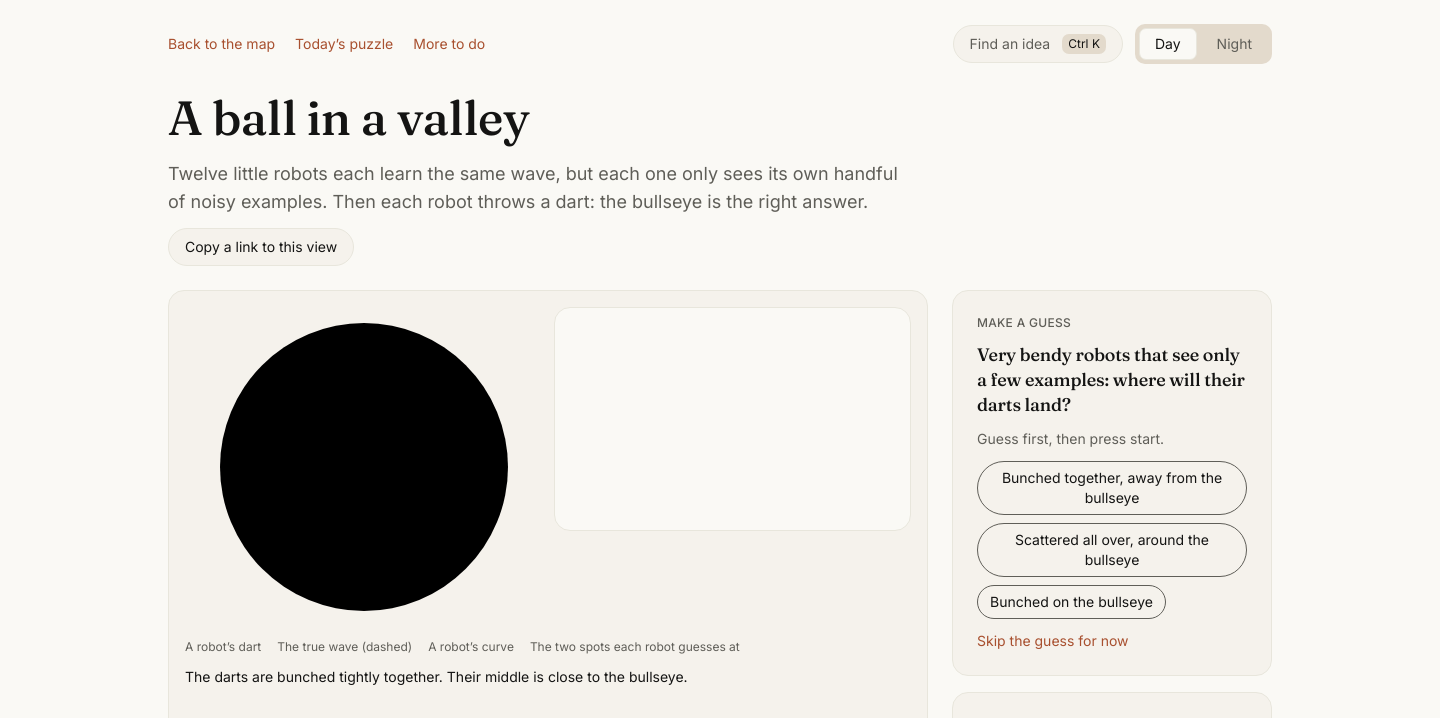
Test: stubborn vs jumpy: in the lesson › earns the star once the darts scatter everywhere
Click the button "Skip the guess for now": (1053, 641) x1=977 y1=631 x2=1128 y2=651
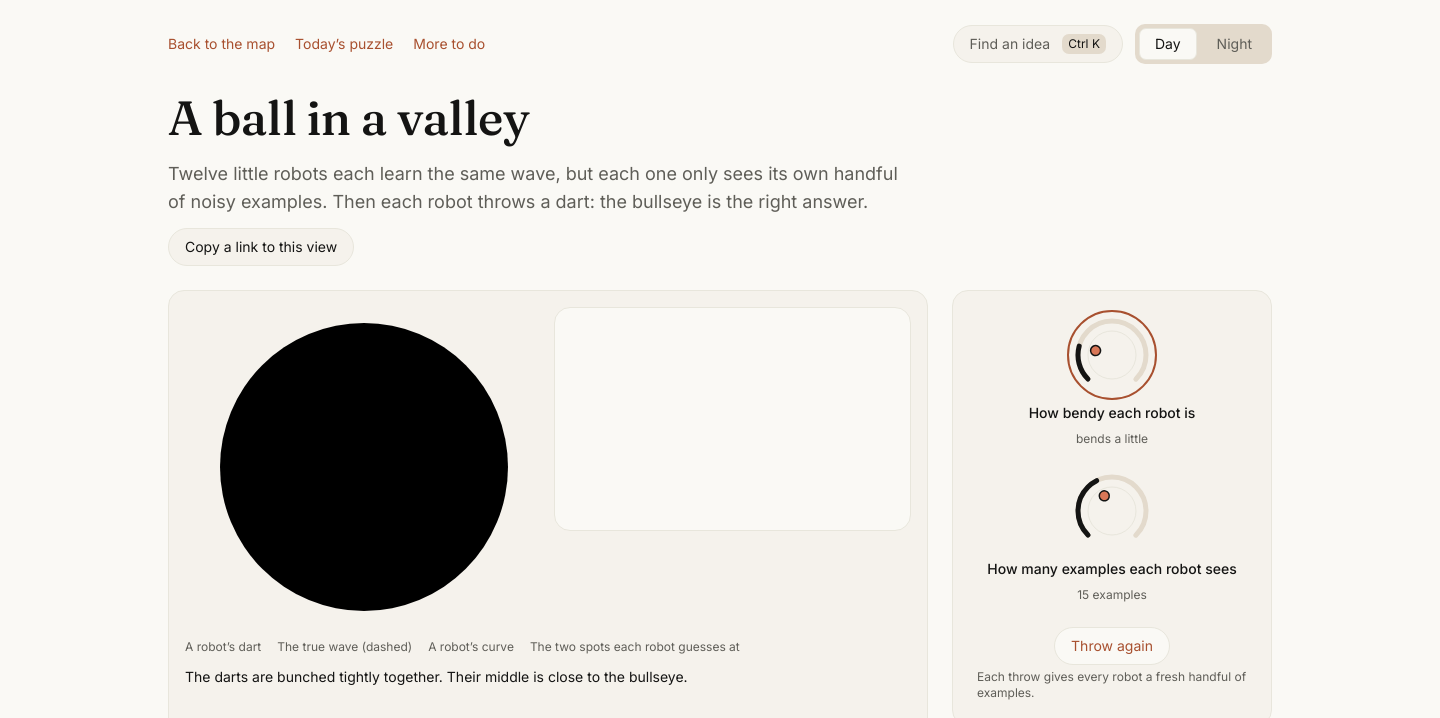
Press End
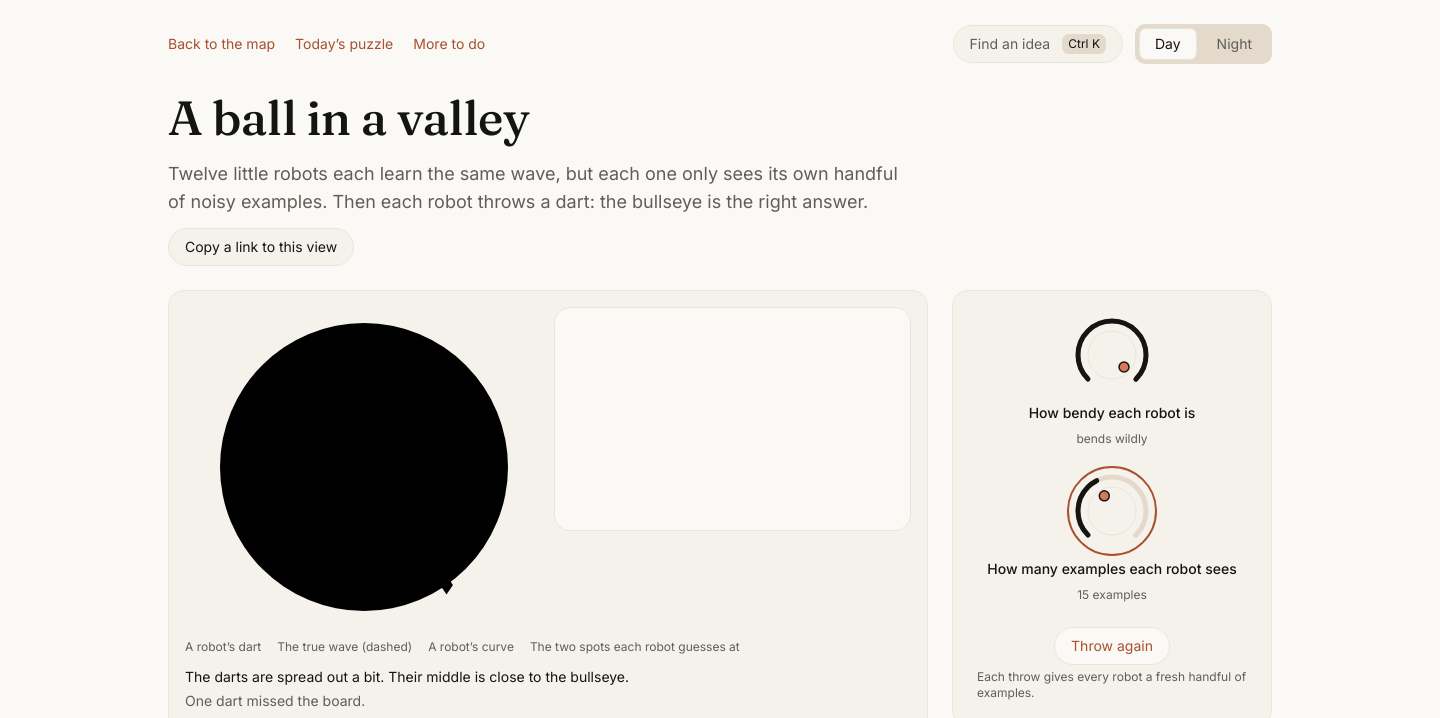
Press Home
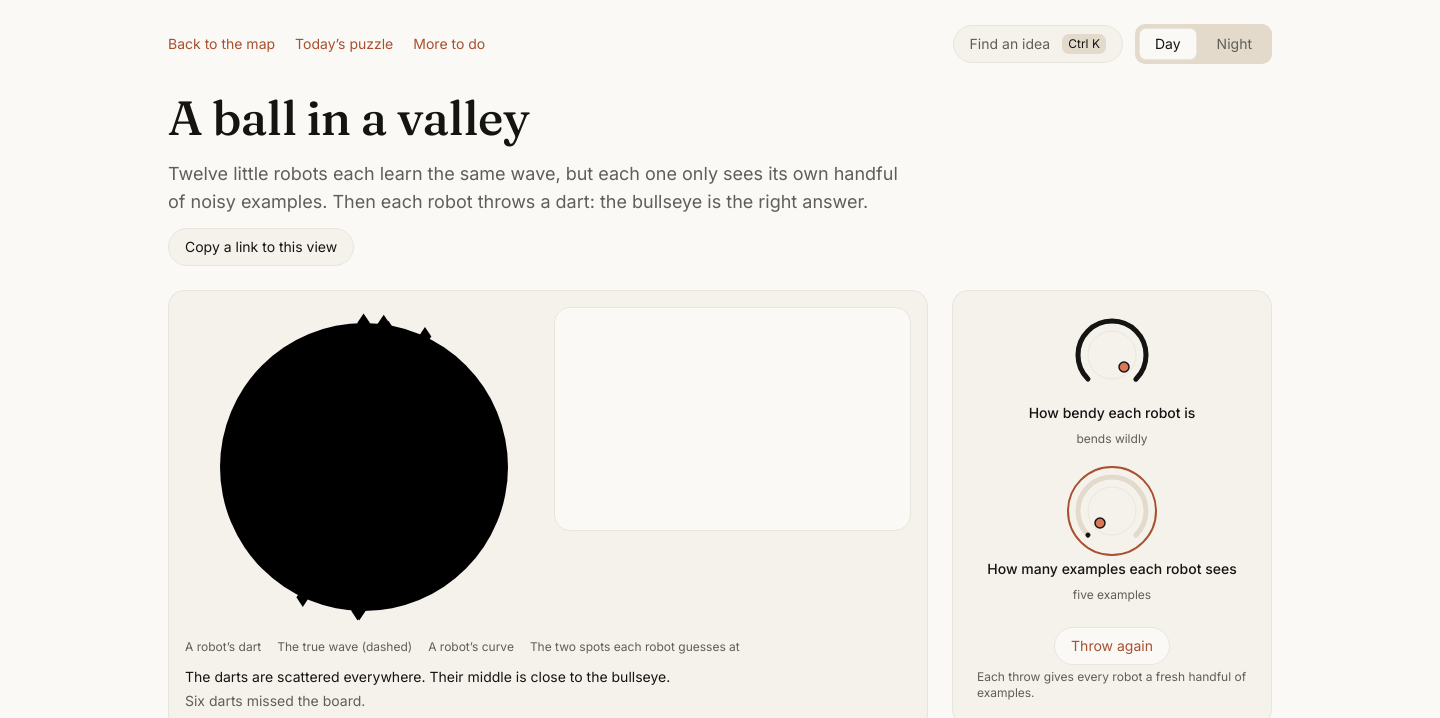
Expected: the text "The darts are scattered everywhere." is shown, x1=185 y1=668 x2=670 y2=685
